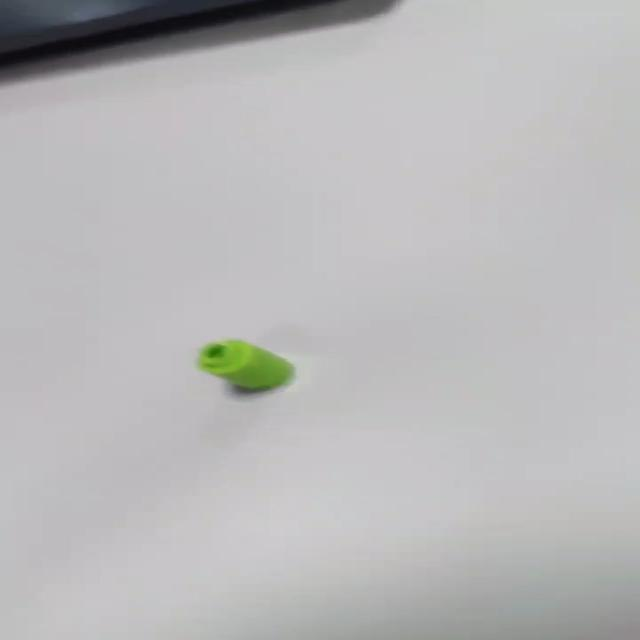S1x1x1: (190, 332, 308, 397)
